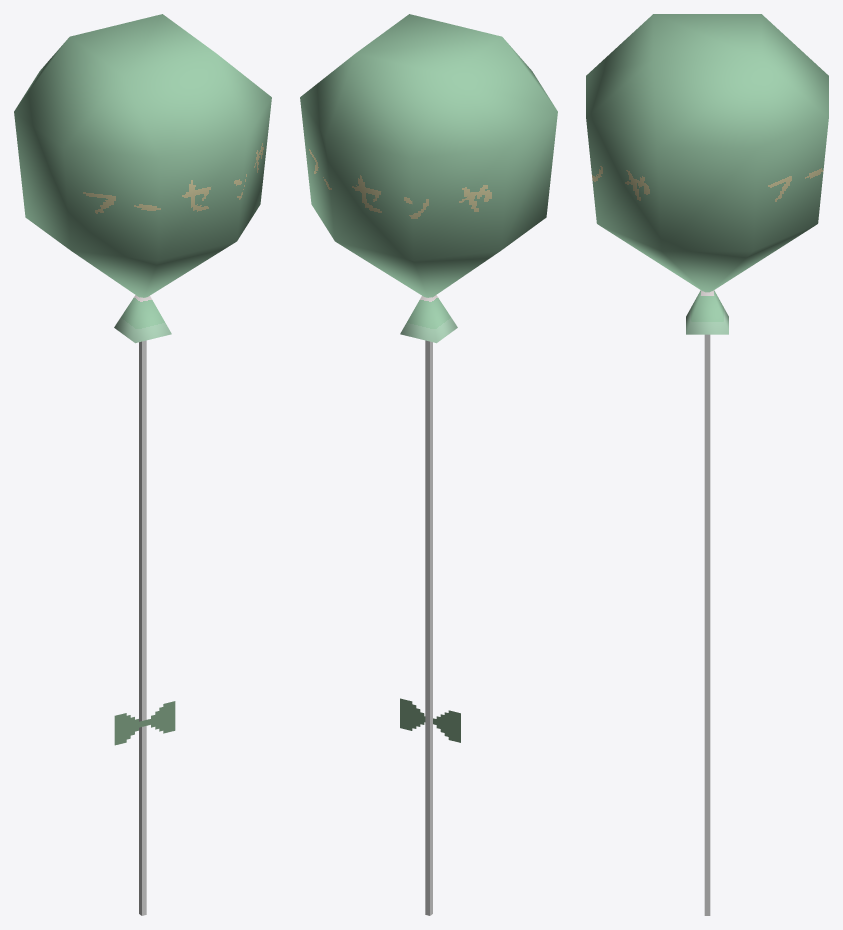
File: 05af_Green_Balloon.glb
3 renders of one model, left to right at view 1: azimuth 30°, elevation 25°; view 2: azimuth 150°, elevation 25°; view 3: azimuth 270°, elevation 25°, orthographic.
Visible parts, largest first — view 1: part_0; view 2: part_0; view 3: part_0.
Boxes of the visible parts, left/top/right/bottom form: part_0: left=14, top=14, right=271, bottom=915; part_0: left=300, top=14, right=557, bottom=915; part_0: left=586, top=14, right=828, bottom=915.
Bounding box in the file's own units: 0.3031 × 1.21 × 0.3031.
Materials: 1 (1 with a texture image).
